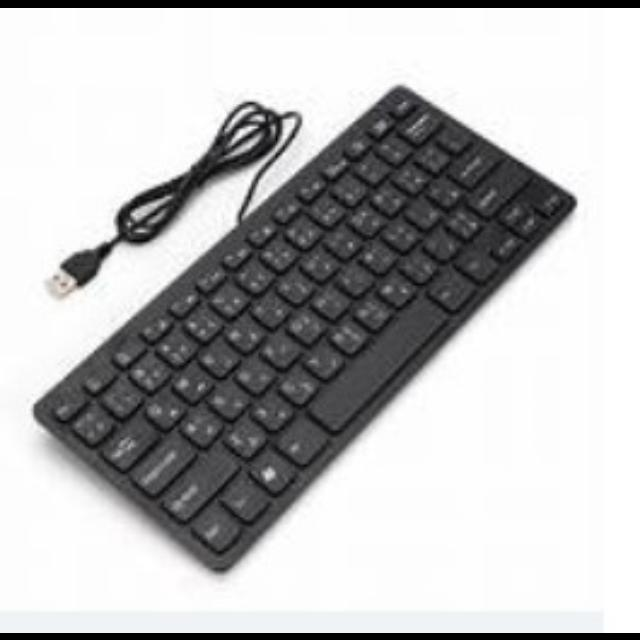Computer-Keyboard: (29, 84, 577, 575)
